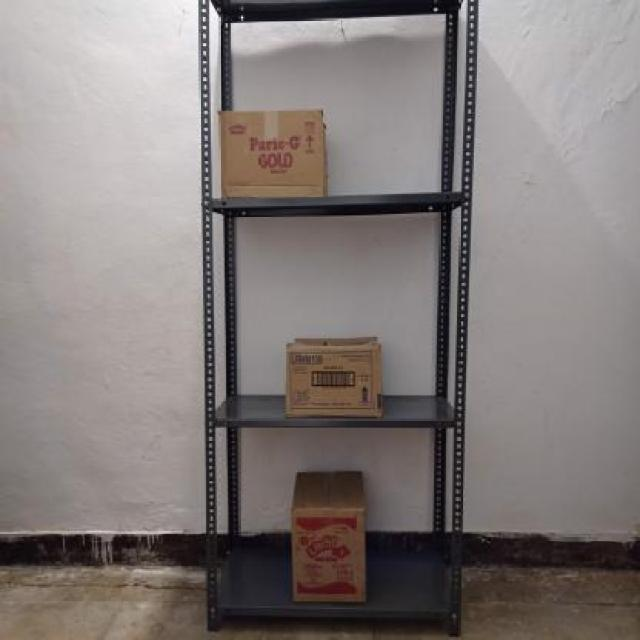box: (219, 110, 327, 196), (285, 344, 383, 421), (290, 508, 366, 601)
